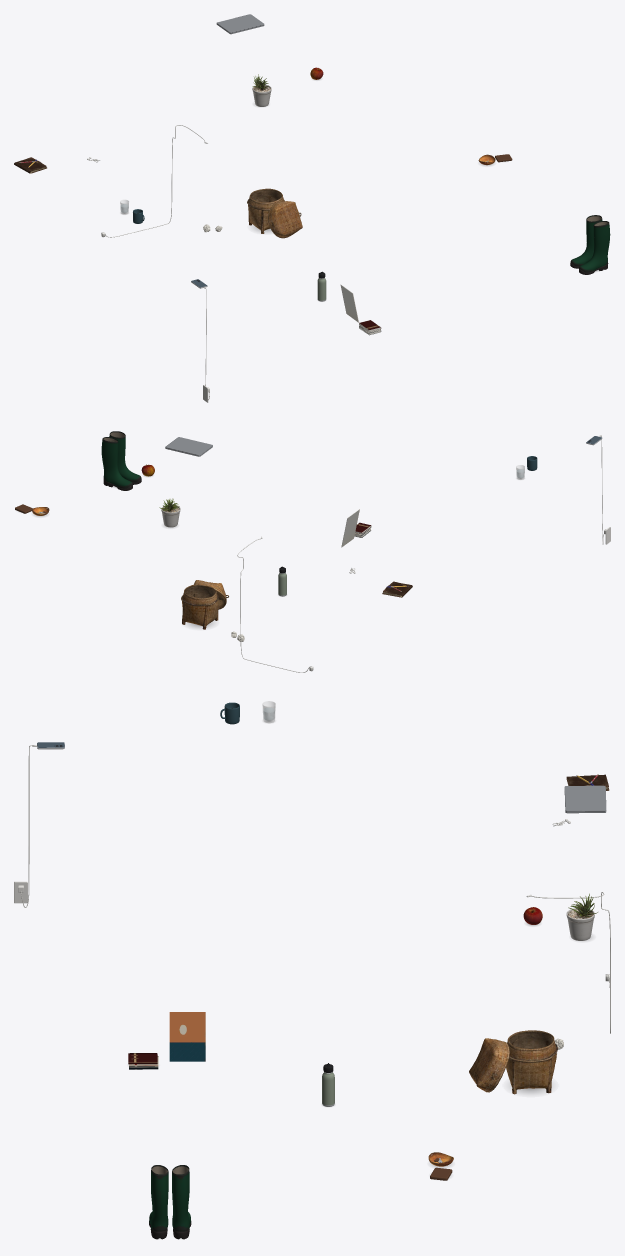
File: props_clutter.glb
3 views of the same model, one above another, from view 1: azimuth 30°, elevation 25°; view 2: azimuth 150°, elevation 25°; view 3: azimuth 270°, elevation 25° (orthographic). The views are drawn at different scales.
Parts seen in each view (by area): view 1: hamper, boots, laptop, earbuds; view 2: hamper, boots, laptop, earbuds, books_floor, succulent_shelf; view 3: hamper, boots, books_floor, laptop, earbuds, succulent_shelf.
Boxes of the visible parts, x1,y1,x2,y2 form: hamper: (247, 188, 302, 238); boots: (570, 215, 610, 274); laptop: (216, 14, 264, 34); earbuds: (87, 125, 488, 402); hamper: (181, 580, 228, 629); boots: (101, 431, 141, 490); laptop: (165, 437, 212, 456); earbuds: (39, 435, 610, 672); books_floor: (341, 509, 371, 547); succulent_shelf: (159, 498, 180, 527); hamper: (469, 1030, 557, 1094); boots: (149, 1165, 191, 1239); books_floor: (128, 1012, 205, 1069); laptop: (564, 785, 606, 813); earbuds: (14, 743, 610, 1162); succulent_shelf: (566, 893, 597, 940).
Size of the model in its own units: 3.9 by 1.73 by 3.02.
24 materials, 9 textured.
